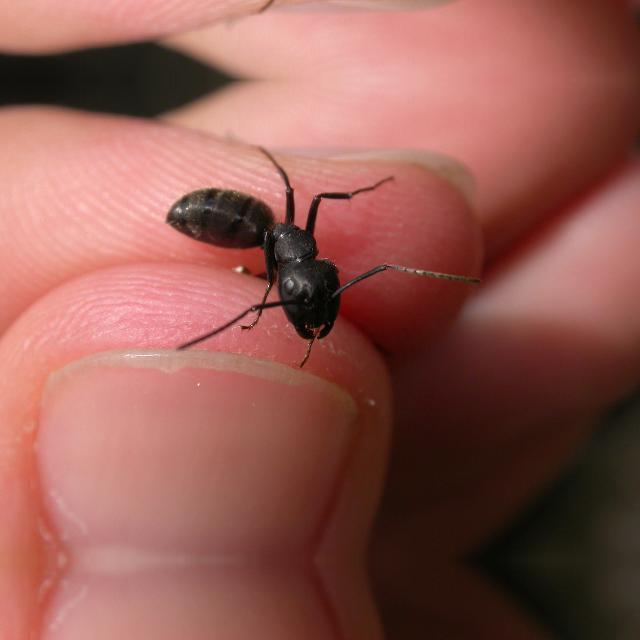Camponotus: (134, 160, 432, 366)
